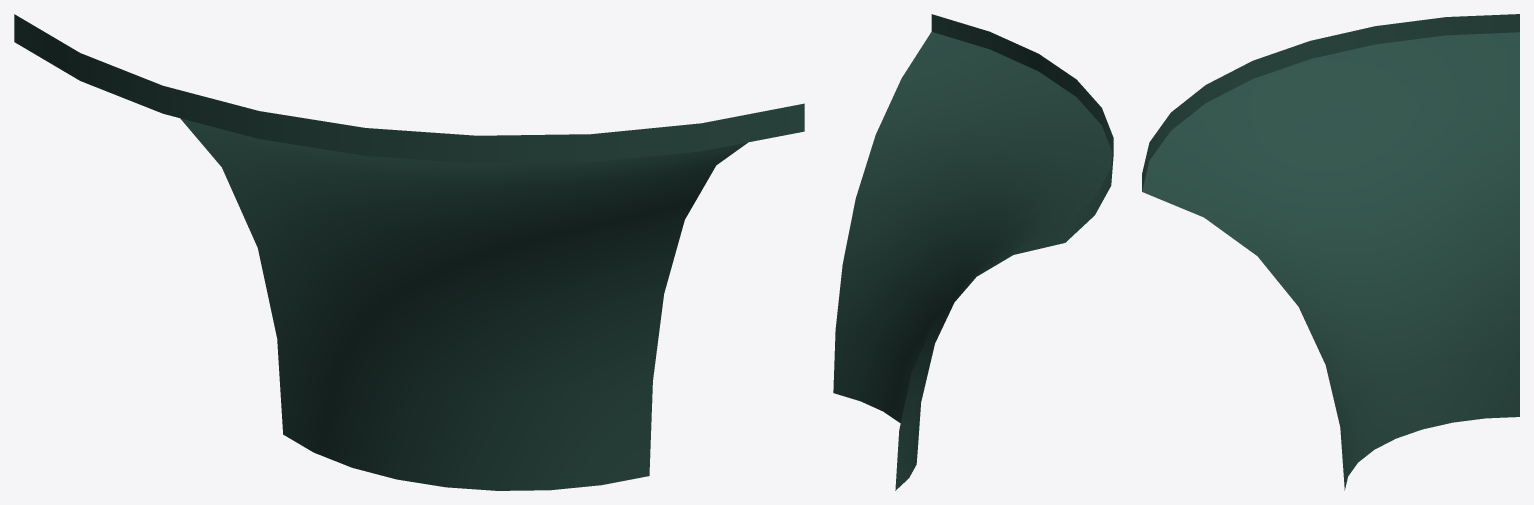
Rendered from W2_WallCornerS_Round1_TopCurvedA.fbx.
The picture shows the model from 3 angles, left to right: view 1: azimuth 30°, elevation 25°; view 2: azimuth 150°, elevation 25°; view 3: azimuth 270°, elevation 25°; orthographic projection. The views are drawn at different scales.
Visible parts, largest first — view 1: W2_WallCornerS_Round1_TopCurvedA.001; view 2: W2_WallCornerS_Round1_TopCurvedA.001; view 3: W2_WallCornerS_Round1_TopCurvedA.001.
Boxes of the visible parts, x1,y1,x2,y2 form: W2_WallCornerS_Round1_TopCurvedA.001: [14, 14, 804, 490]; W2_WallCornerS_Round1_TopCurvedA.001: [833, 14, 1113, 490]; W2_WallCornerS_Round1_TopCurvedA.001: [1142, 14, 1519, 490].
Bounding box in the file's own units: 0.5394 × 0.5 × 0.5394.
